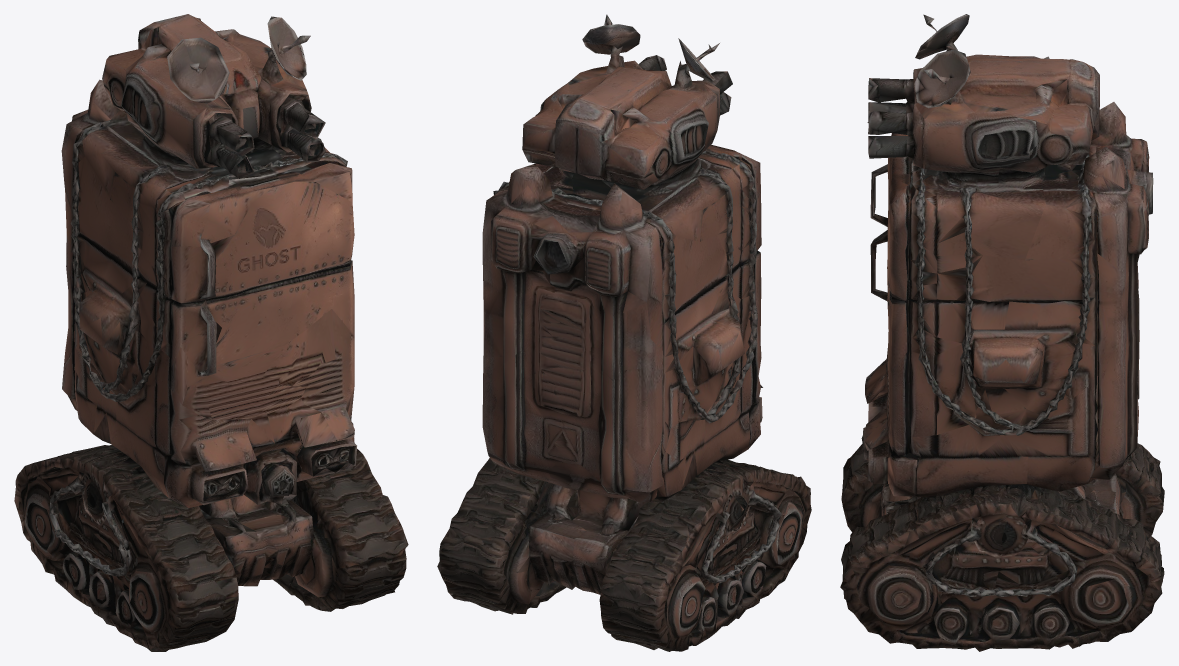
Rendered from konstrukt.glb.
The picture shows the model from 3 angles, left to right: view 1: azimuth 30°, elevation 25°; view 2: azimuth 150°, elevation 25°; view 3: azimuth 270°, elevation 25°; orthographic projection. The views are drawn at different scales.
Visible parts, largest first — view 1: mesh_node; view 2: mesh_node; view 3: mesh_node.
Boxes of the visible parts, x1=… form: mesh_node: x1=14, y1=14, x2=408, y2=651; mesh_node: x1=437, y1=14, x2=811, y2=651; mesh_node: x1=840, y1=14, x2=1164, y2=651.
Bounding box in the file's own units: 0.5667 × 1.2 × 0.6246.
Materials: 1 (1 with a texture image).
